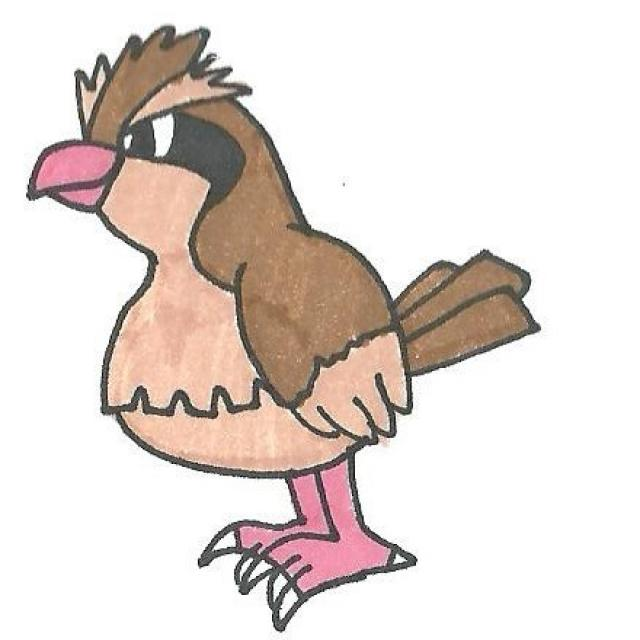Pidgey: (64, 35, 444, 594)
